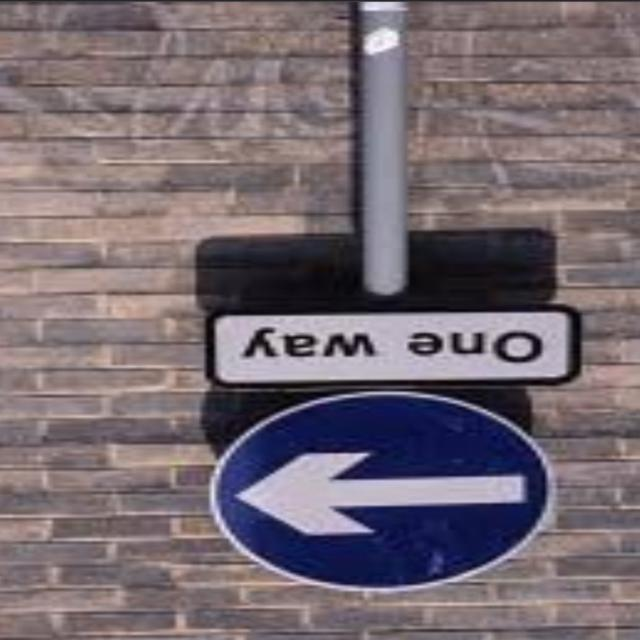Turn Left: (180, 395, 549, 584)
